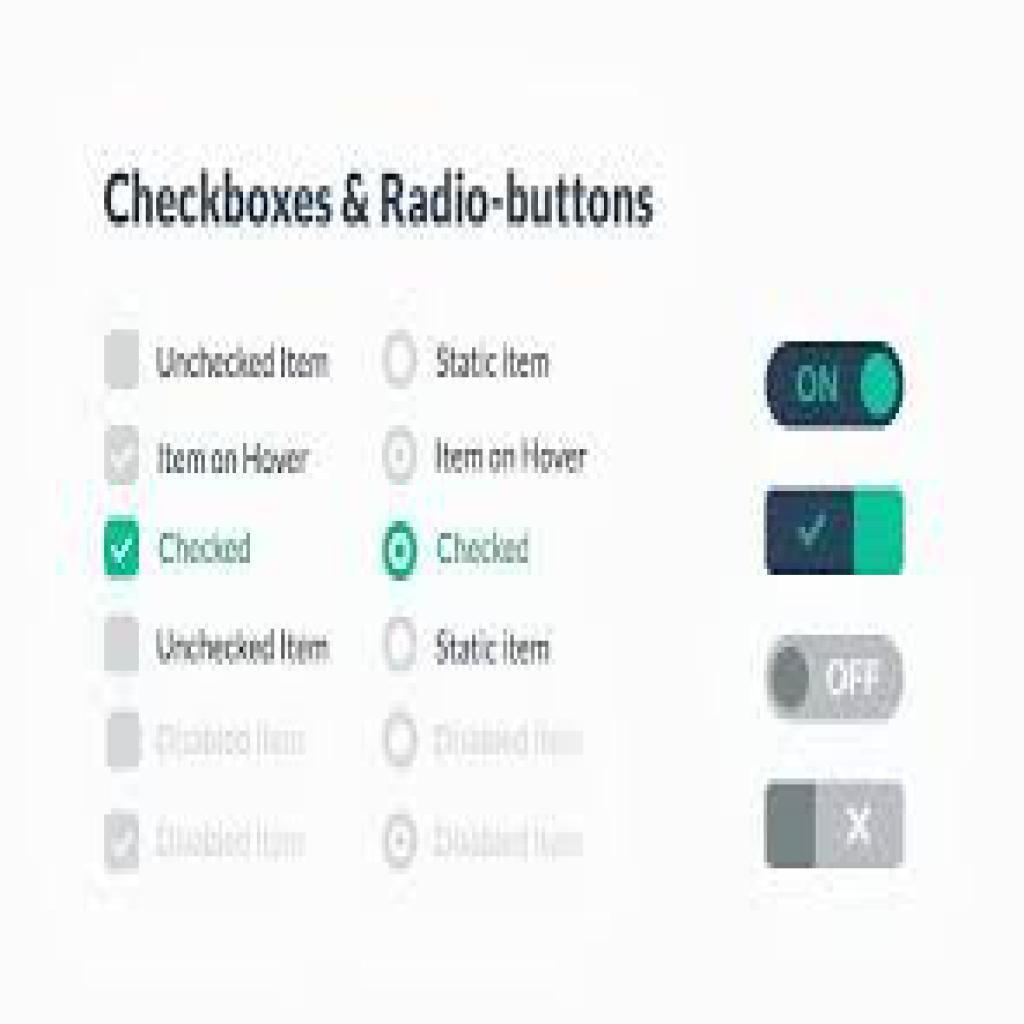checkbox: (100, 425, 145, 492), (103, 322, 143, 397), (100, 516, 144, 581), (101, 615, 144, 672), (106, 712, 145, 773), (105, 815, 144, 870)
radio: (378, 807, 419, 879), (379, 707, 420, 772), (381, 609, 423, 672), (385, 423, 423, 492), (385, 334, 421, 398), (383, 522, 418, 580)
switch: (765, 489, 908, 578), (764, 635, 907, 723), (766, 343, 905, 432), (767, 784, 905, 866)
